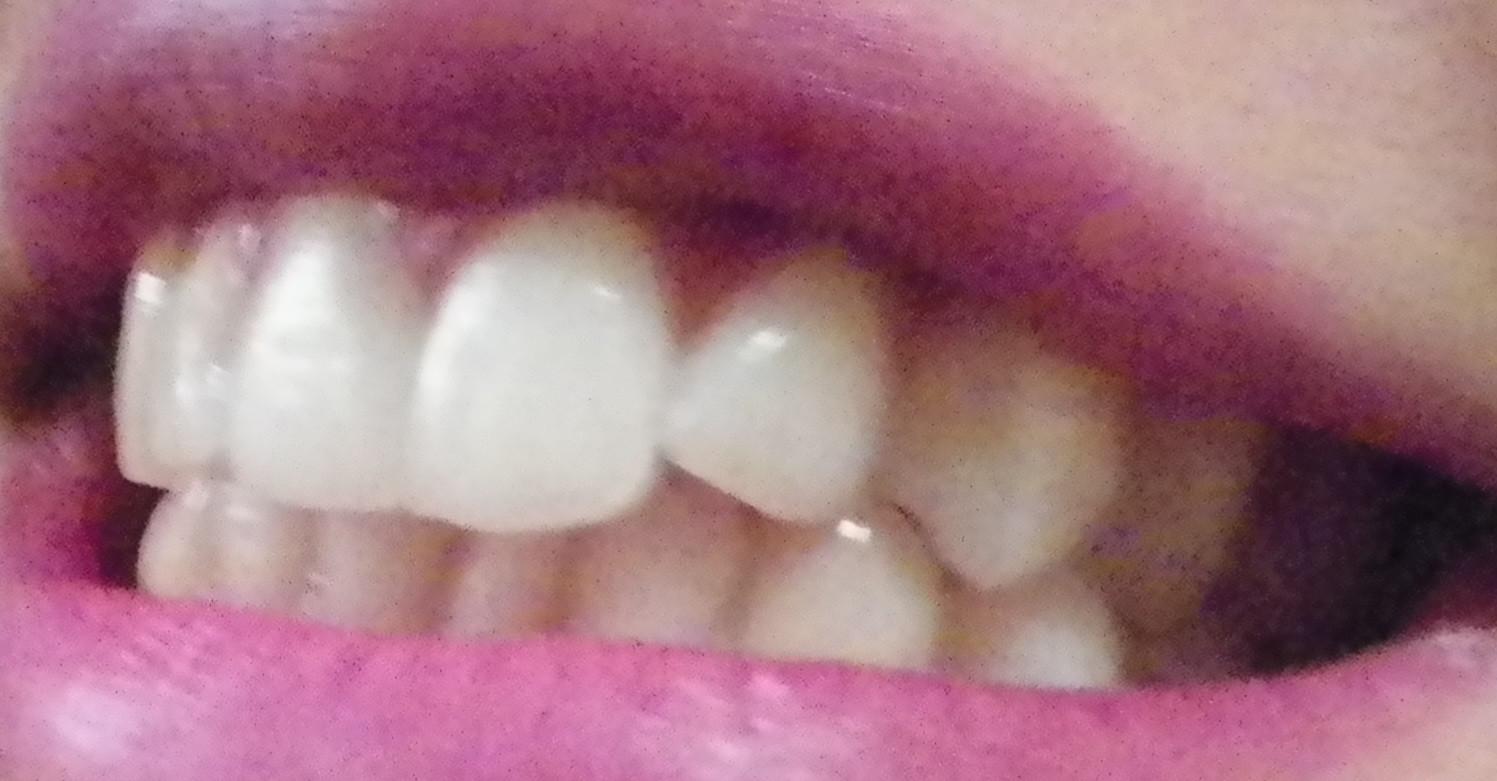boca: (119, 240, 1290, 686)
